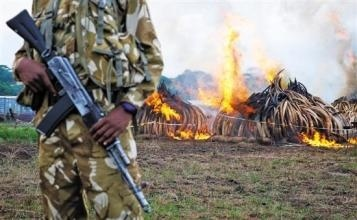fire: (203, 11, 247, 112), (298, 127, 357, 148), (144, 89, 180, 121), (254, 48, 285, 84), (163, 124, 213, 141)
